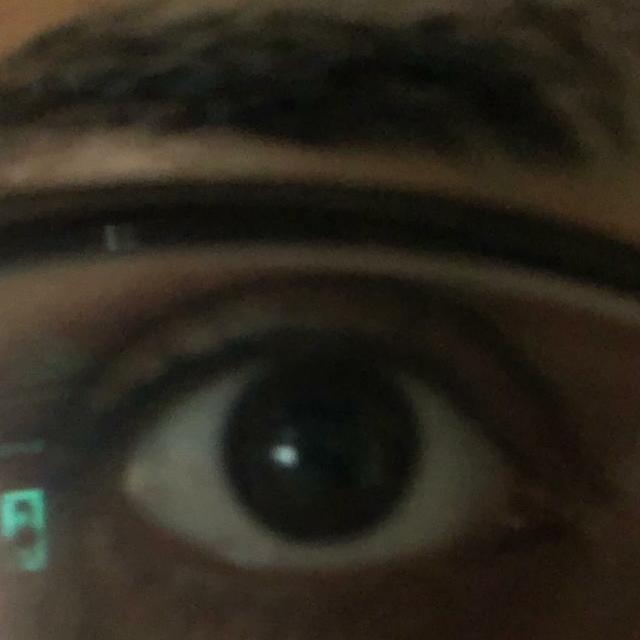eye: (116, 348, 513, 577)
iris: (222, 360, 420, 547)
